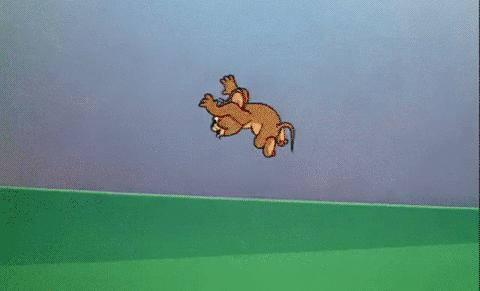jerry: (198, 74, 296, 160)
